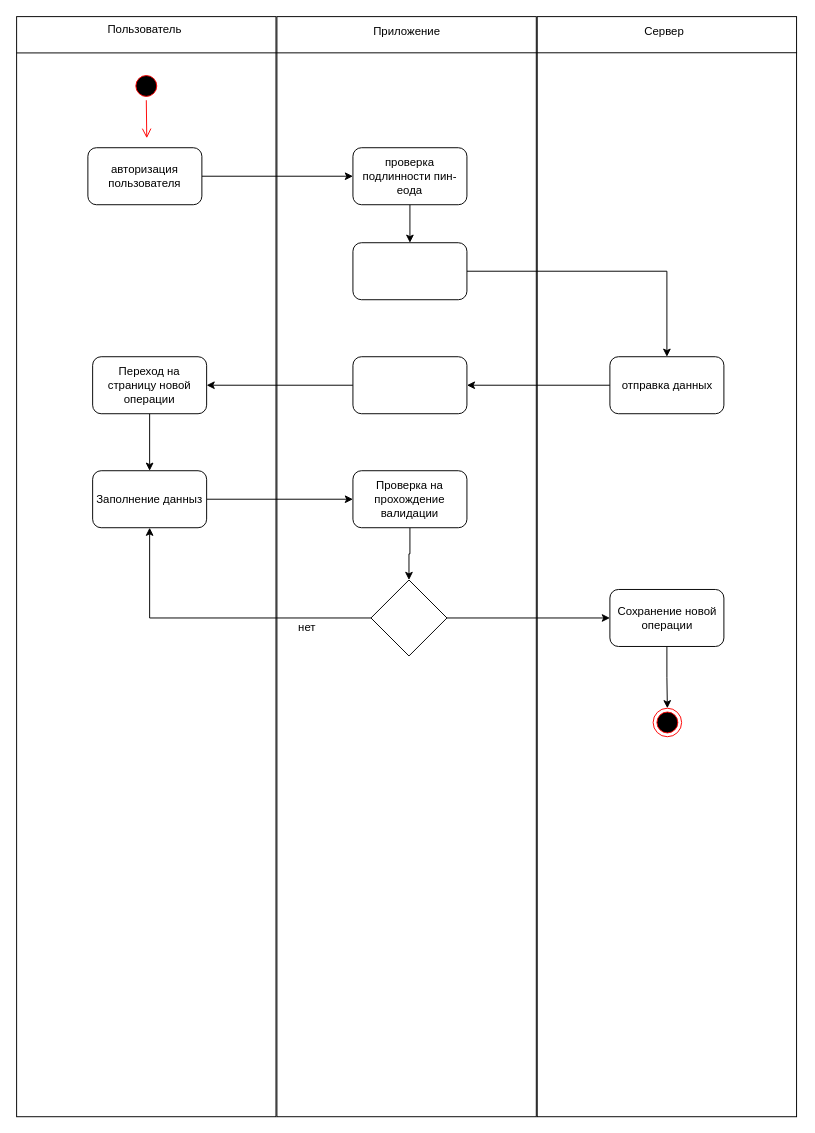
Some shapes in this 815 by 1133 pixel diagram are drawn without their labels. The centre of each missing label's shape, as x and y in pixels:
валидация пройдена?: the point at 408,617
Вывод информации: the point at 409,385
запрос серверу на получение данных: the point at 409,271
